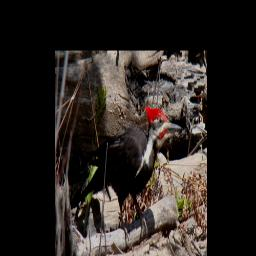Woodpecker: (71, 104, 184, 247)
